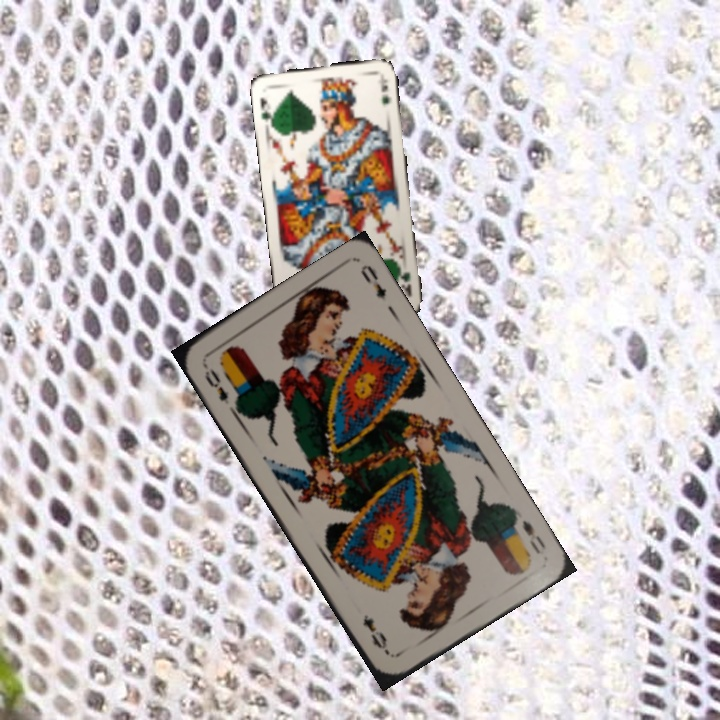EO: (199, 359, 232, 407), (518, 516, 549, 557)
GK: (395, 260, 414, 299), (256, 94, 276, 126)
